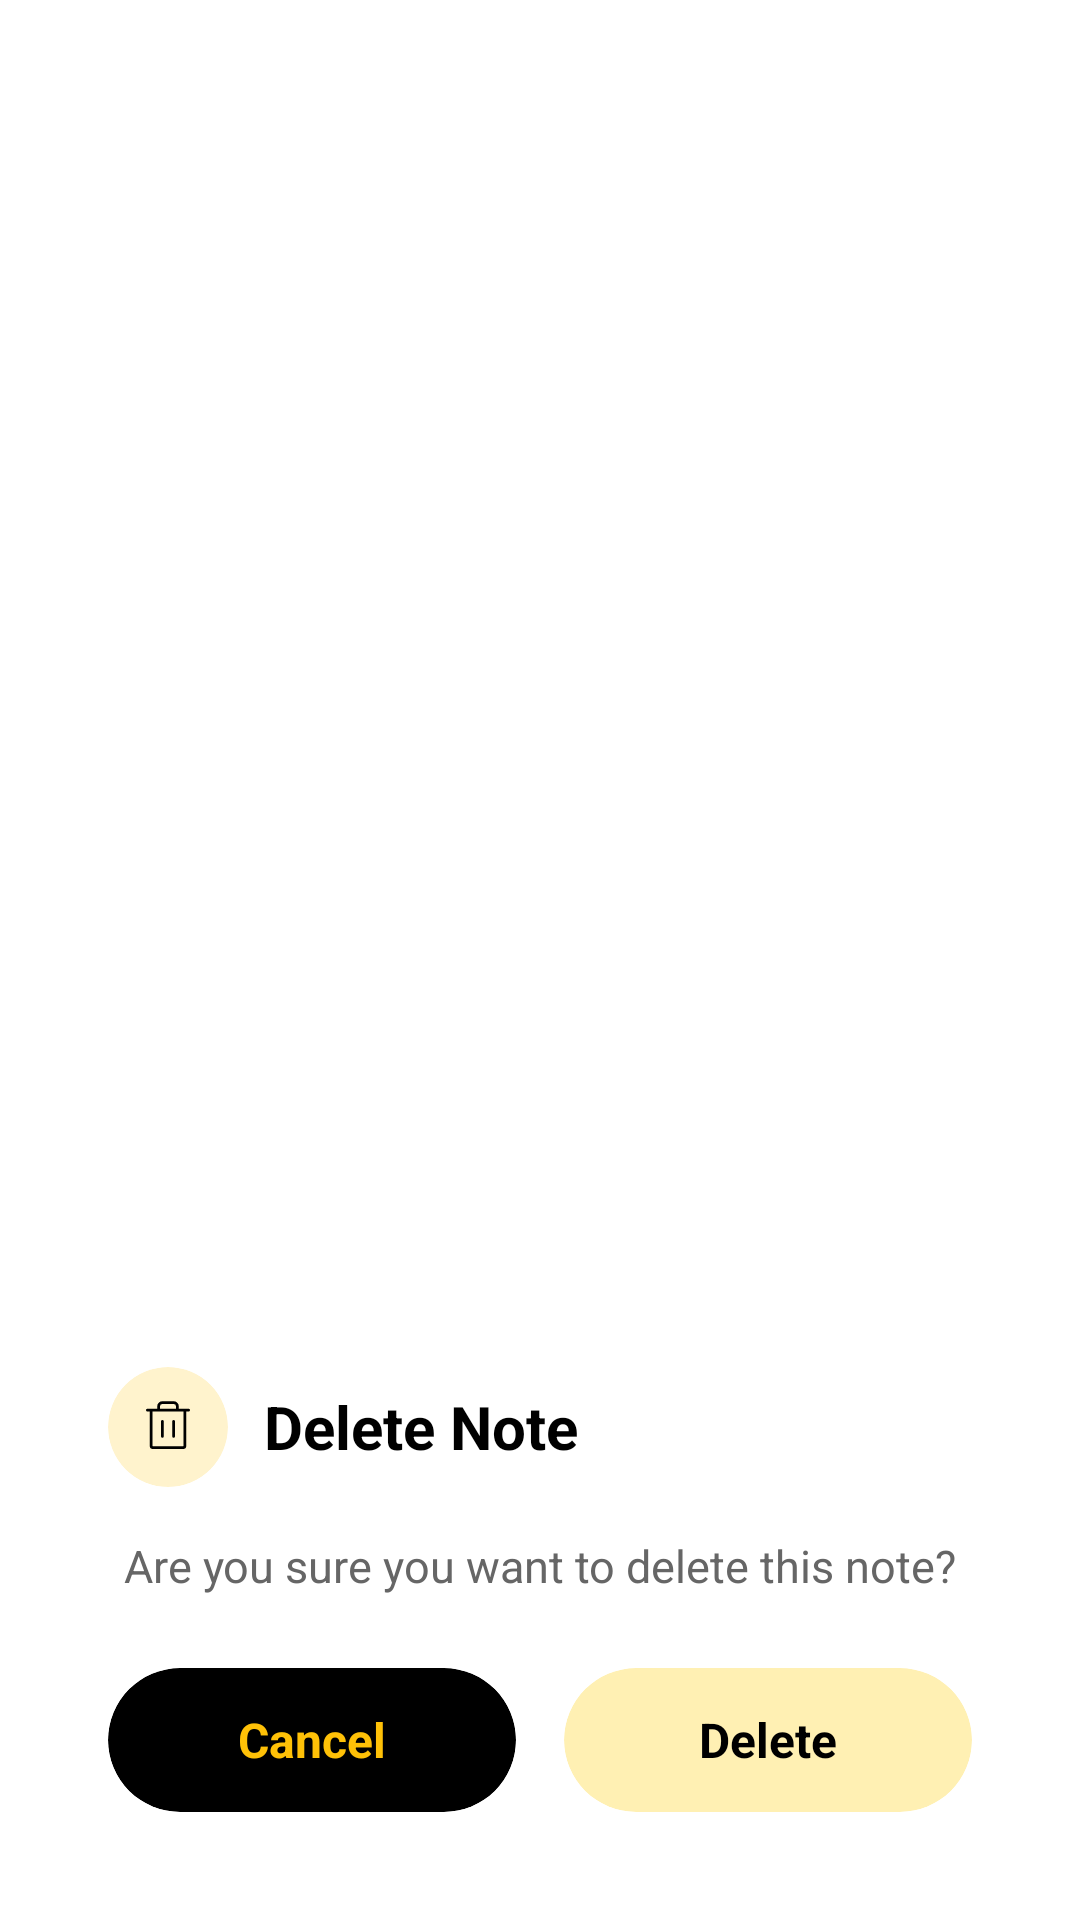

Named icons in this screenshot (1080px×1920px) and their bounding boxes, [x1, y1, x2, y2]:
delete dialog: [146, 1401, 190, 1449]
